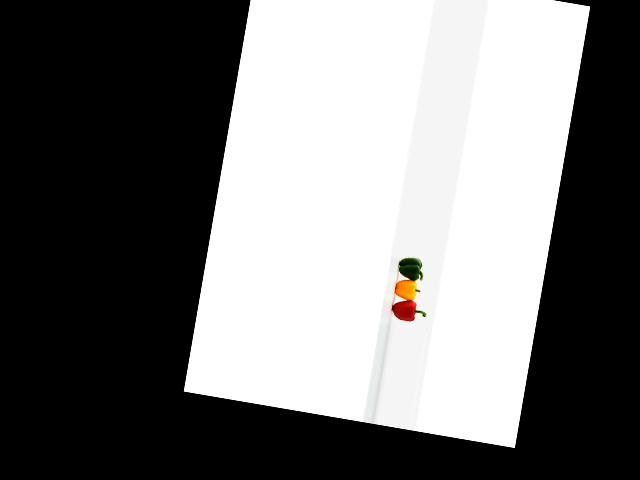bell_pepper: (385, 295, 430, 330)
